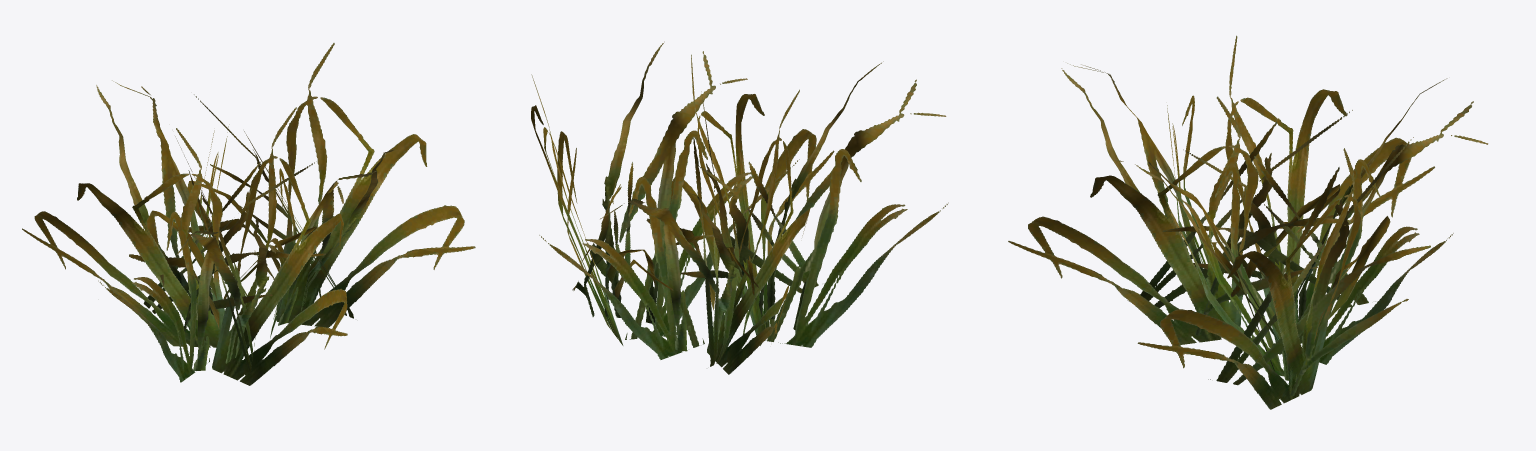
Rendered from Vegetation_Cao01.glb.
The picture shows the model from 3 angles, left to right: view 1: azimuth 30°, elevation 25°; view 2: azimuth 150°, elevation 25°; view 3: azimuth 270°, elevation 25°; orthographic projection. The views are drawn at different scales.
Parts seen in each view (by area): view 1: Object008; view 2: Object008; view 3: Object008.
Part boxes in pixels (bbox=[...]): Object008: bbox=[22, 43, 475, 385]; Object008: bbox=[531, 41, 948, 374]; Object008: bbox=[1008, 35, 1488, 409].
Size of the model in its own units: 1.03 by 0.717 by 1.07.
Materials: 1 (1 with a texture image).
